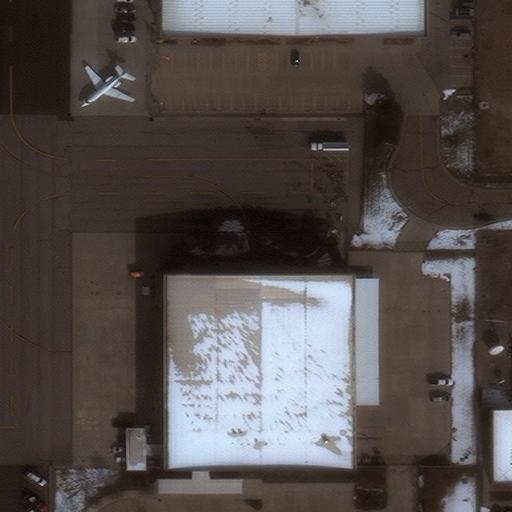Medium Civil Transport: (79, 68, 132, 106)
